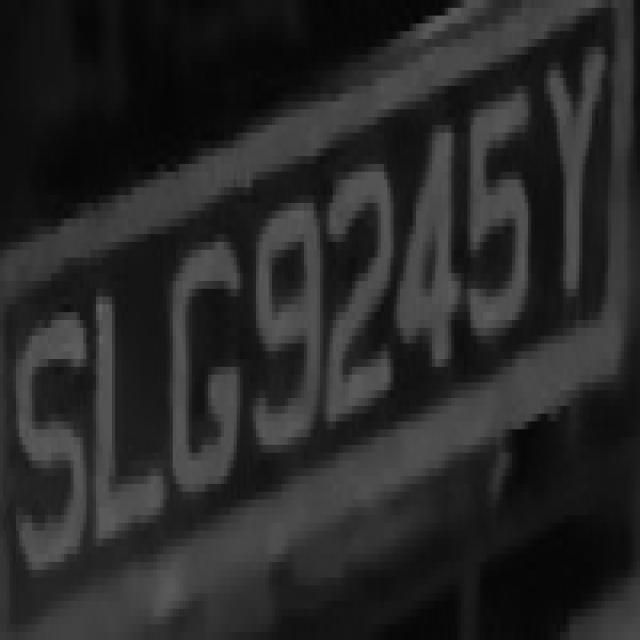2: (320, 125, 403, 445)
4: (400, 141, 474, 437)
5: (467, 94, 528, 366)
9: (250, 148, 330, 476)
G: (176, 195, 250, 523)
L: (90, 219, 172, 554)
S: (12, 258, 90, 616)
Y: (531, 47, 608, 320)
